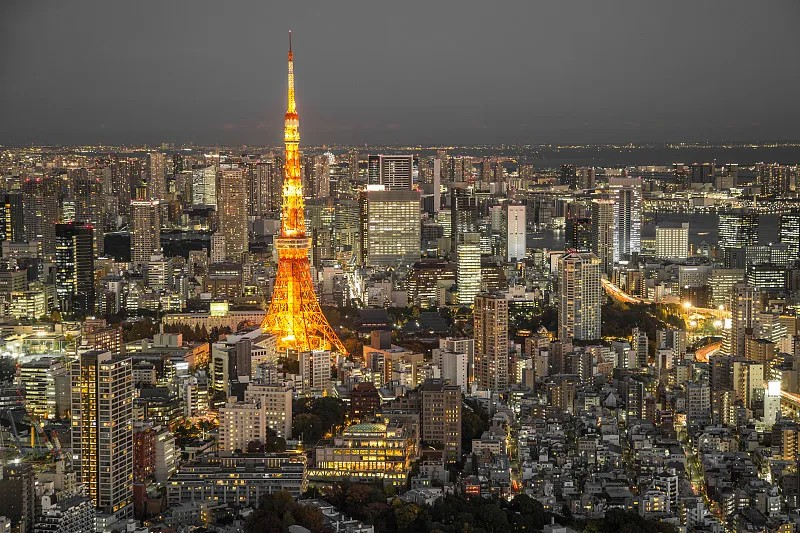Tokyo: (260, 28, 346, 354)
